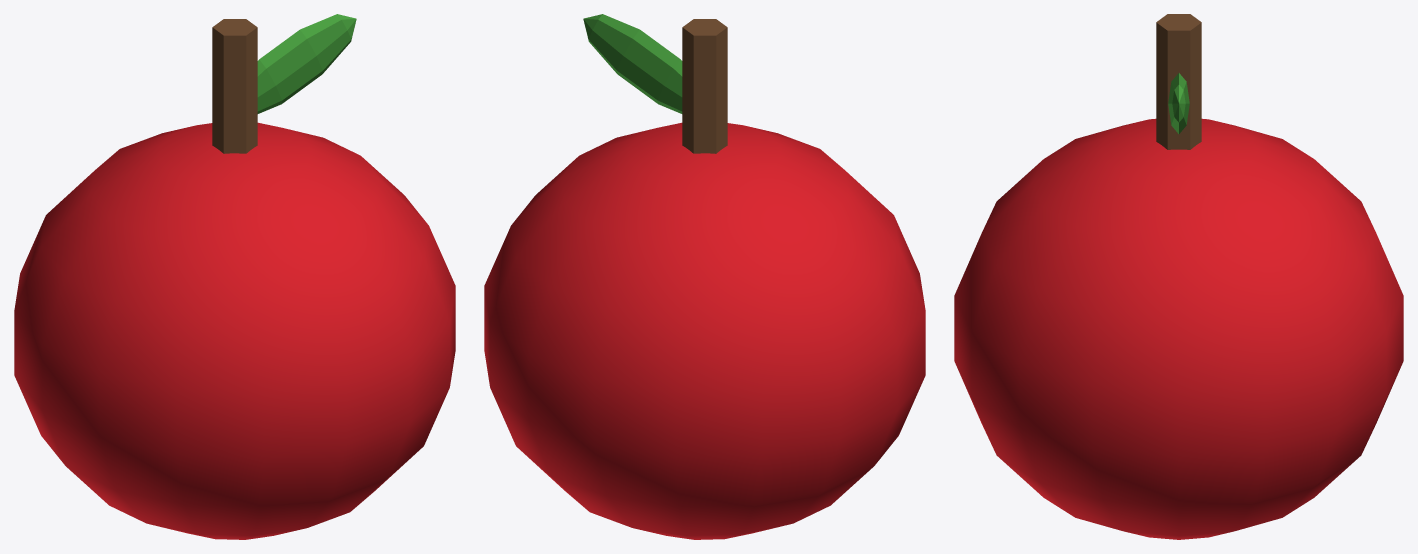
File: Fruto_Apple.fbx
The picture shows the model from 3 angles, left to right: view 1: azimuth 30°, elevation 25°; view 2: azimuth 150°, elevation 25°; view 3: azimuth 270°, elevation 25°; orthographic projection.
Visible parts, largest first — view 1: Produto_Apple, Cabo_Apple; view 2: Produto_Apple, Cabo_Apple; view 3: Produto_Apple, Cabo_Apple.
Part boxes in pixels (<box>): Produto_Apple: <box>14,122,455,539</box>; Cabo_Apple: <box>212,14,356,153</box>; Produto_Apple: <box>484,122,925,539</box>; Cabo_Apple: <box>583,14,727,153</box>; Produto_Apple: <box>954,118,1403,539</box>; Cabo_Apple: <box>1156,14,1201,149</box>.
Bounding box in the file's own units: 0.6894 × 0.8405 × 0.6894.
1 material, 1 textured.
